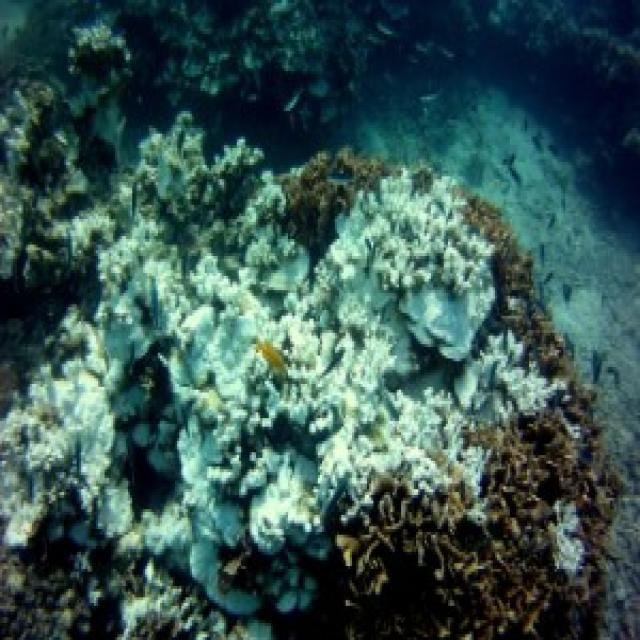Bleached: (114, 221, 297, 457), (346, 165, 498, 355)
Healthy: (478, 401, 622, 640)
